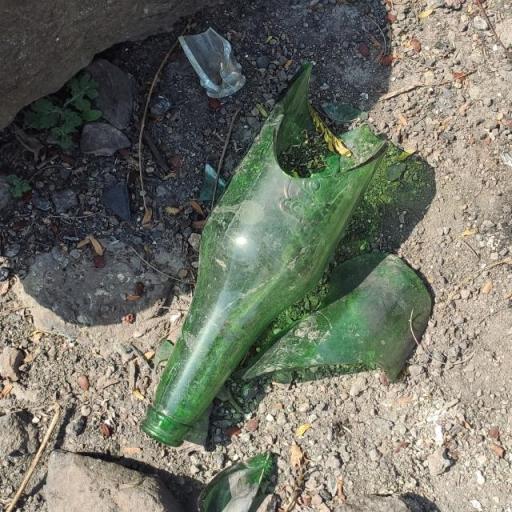glass: (136, 55, 398, 456), (214, 242, 439, 390), (187, 441, 282, 512), (174, 25, 248, 103)
